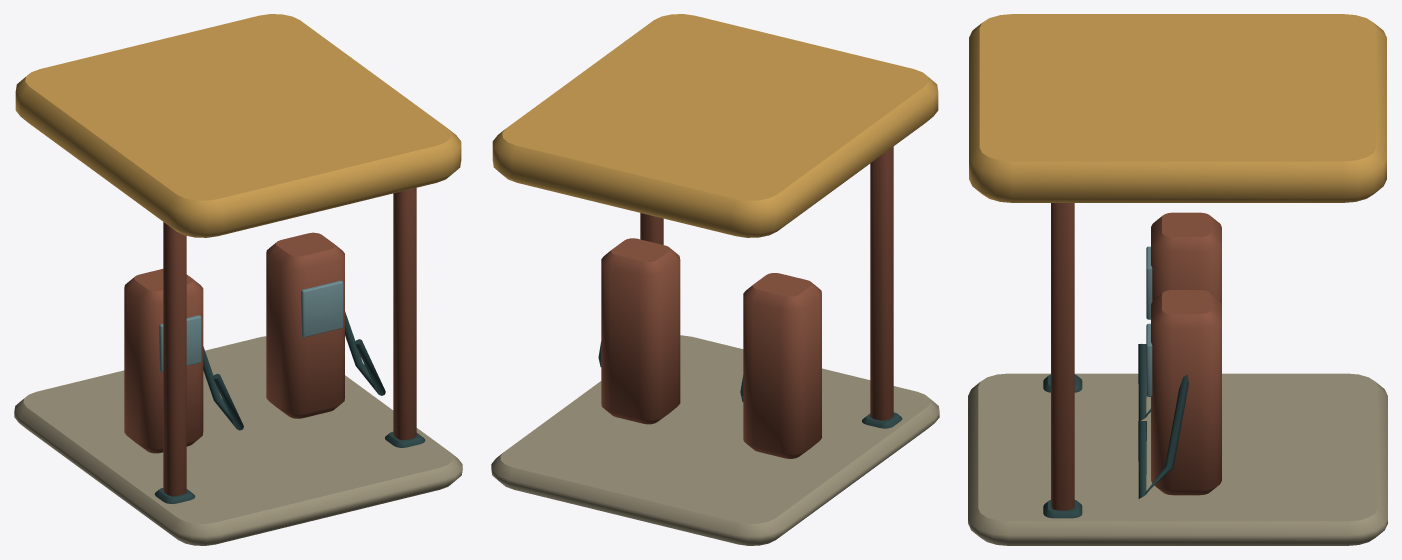
Rendered from fuel_works_2.glb.
3 renders of one model, left to right at view 1: azimuth 30°, elevation 25°; view 2: azimuth 150°, elevation 25°; view 3: azimuth 270°, elevation 25°, orthographic. The views are drawn at different scales.
Parts seen in each view (by area): view 1: FuelWorks2; view 2: FuelWorks2; view 3: FuelWorks2.
Part boxes in pixels (box(x1,y1,x2,y2)): FuelWorks2: box(14, 14, 462, 545); FuelWorks2: box(491, 14, 939, 545); FuelWorks2: box(968, 14, 1387, 545).
Size of the model in its own units: 2.19 by 2.51 by 2.48.
